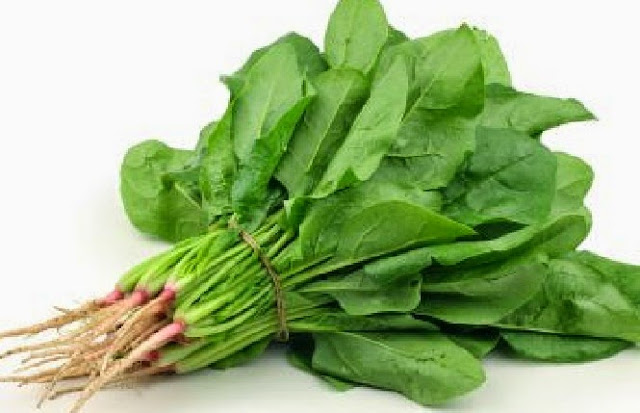Bayam: (68, 4, 640, 413)
